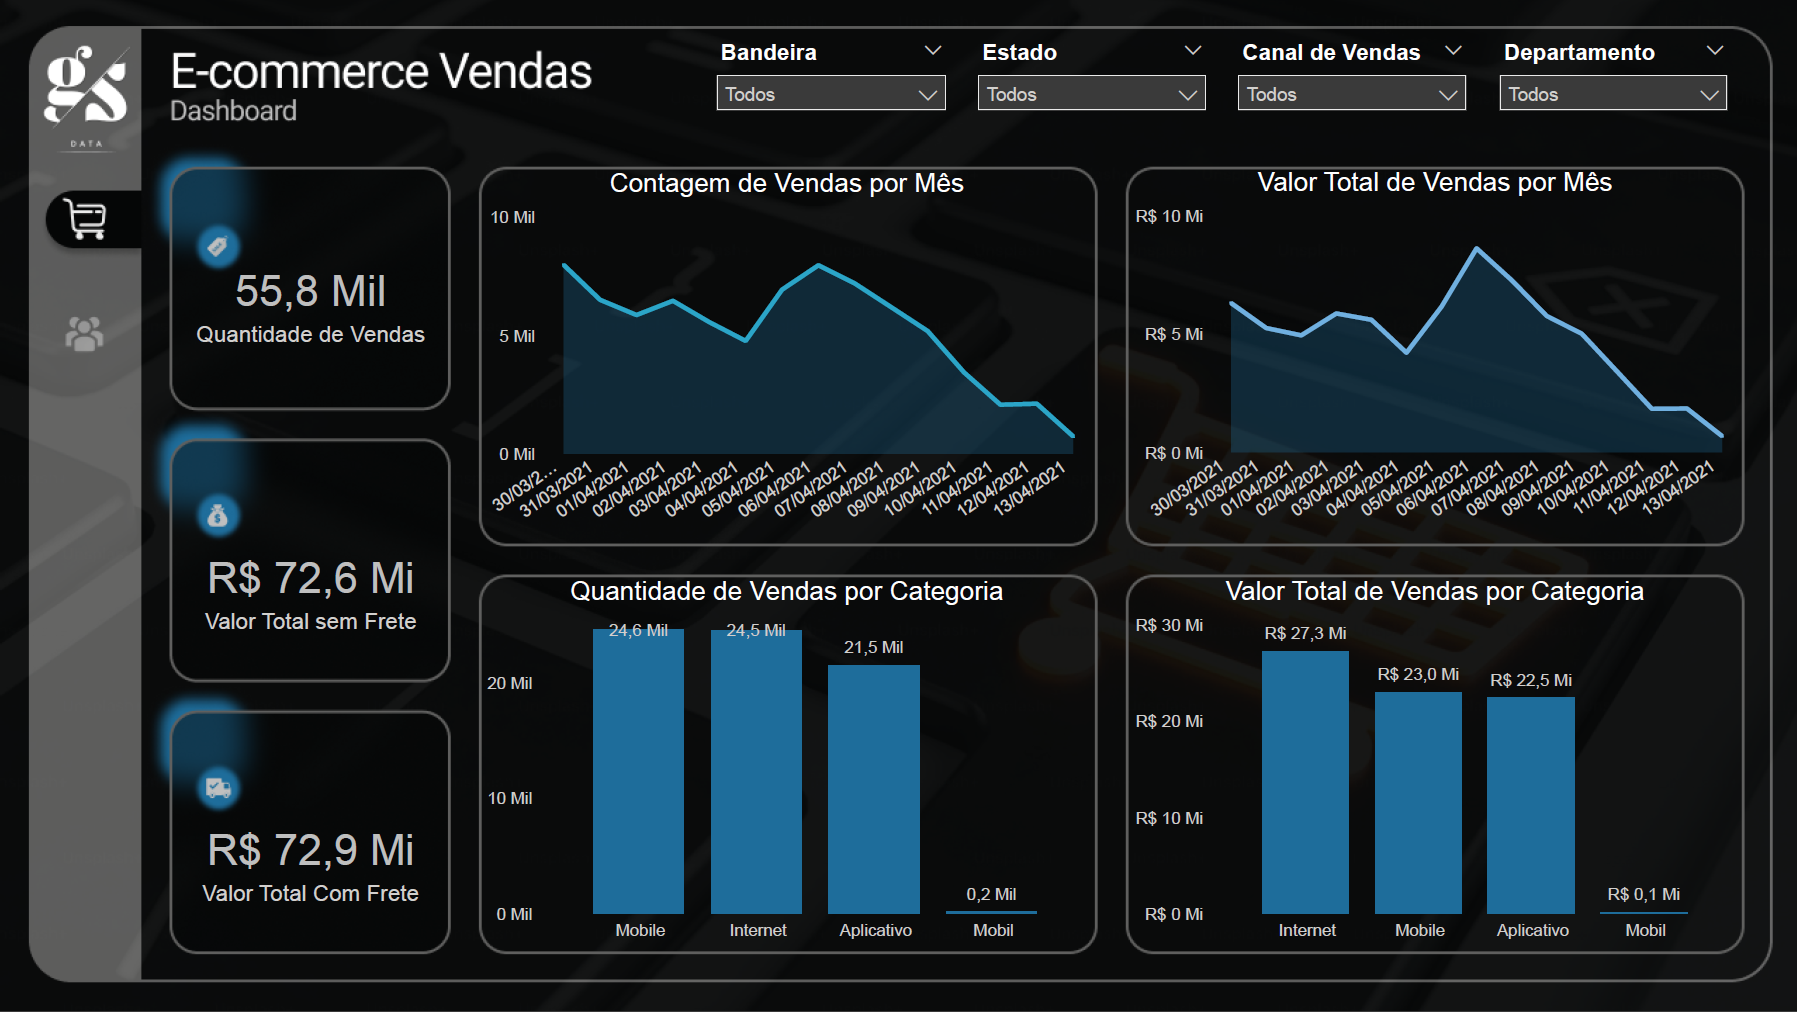

The dashboard page shown, as its layout file describes it:
{"tool":"powerbi","page":{"name":"Vendas","canvas":[1280,720],"ordinal":0},"visuals":[{"type":"card","fields":{"Values":["Count(base compra.idcompra)"]},"box":[120.6,132.7,199.1,162.9],"z":0},{"type":"card","fields":{"Values":["Sum(base compra.Preço)"]},"box":[120.6,353.5,199.1,130.3],"z":1000},{"type":"card","fields":{"Values":["Sum(base compra.Preço_com_frete)"]},"box":[120.6,546.5,199.1,130.3],"z":2000},{"type":"lineChart","title":"Contagem de Vendas por Mês","fields":{"Y":["Count(base compra.idcompra)"],"Category":["base compra.Data"]},"box":[340.2,119.4,437.9,267.8],"z":3000},{"type":"lineChart","title":"Valor Total de Vendas por Mês","fields":{"Category":["base compra.Data"],"Y":["Sum(base compra.Preço_com_frete)"]},"box":[801.1,118.2,437.9,267.8],"z":4000},{"type":"columnChart","title":"Quantidade de Vendas por Categoria","fields":{"Category":["base compra.idcanalvenda"],"Y":["Count(base compra.idcompra)"]},"box":[340.2,409,437.9,267.8],"z":5000},{"type":"columnChart","title":"Valor Total de Vendas por Categoria","fields":{"Category":["base compra.idcanalvenda"],"Y":["Sum(base compra.Preço_com_frete)"]},"box":[801.1,409,437.9,267.8],"z":6000},{"type":"shape","box":[31.4,214.7,67.6,41],"z":7000},{"type":"slicer","fields":{"Values":["base compra.Nome_Departamento"]},"box":[1055.6,22.9,182.2,88.1],"z":8000},{"type":"slicer","fields":{"Values":["base compra.idcanalvenda"]},"box":[870.2,22.9,182.2,88.1],"z":9000},{"type":"slicer","fields":{"Values":["base compra.Estado"]},"box":[684.9,22.9,182.2,88.1],"z":10000},{"type":"slicer","fields":{"Values":["base compra.bandeira"]},"box":[499.5,22.9,182.2,88.1],"z":11000}]}

Visuals, with their boxes on the page's 1280x720 design canvas (x1, y1, x2, y2). These are canvas units, not pixel positions in the 1797x1012 screenshot, which may show the page scaled, cropped or inside an application window:
card - Count(base compra.idcompra): 121/133/320/296
card - Sum(base compra.Preço): 121/354/320/484
card - Sum(base compra.Preço_com_frete): 121/546/320/677
"Contagem de Vendas por Mês" lineChart: 340/119/778/387
"Valor Total de Vendas por Mês" lineChart: 801/118/1239/386
"Quantidade de Vendas por Categoria" columnChart: 340/409/778/677
"Valor Total de Vendas por Categoria" columnChart: 801/409/1239/677
shape: 31/215/99/256
slicer - base compra.Nome_Departamento: 1056/23/1238/111
slicer - base compra.idcanalvenda: 870/23/1052/111
slicer - base compra.Estado: 685/23/867/111
slicer - base compra.bandeira: 500/23/682/111
